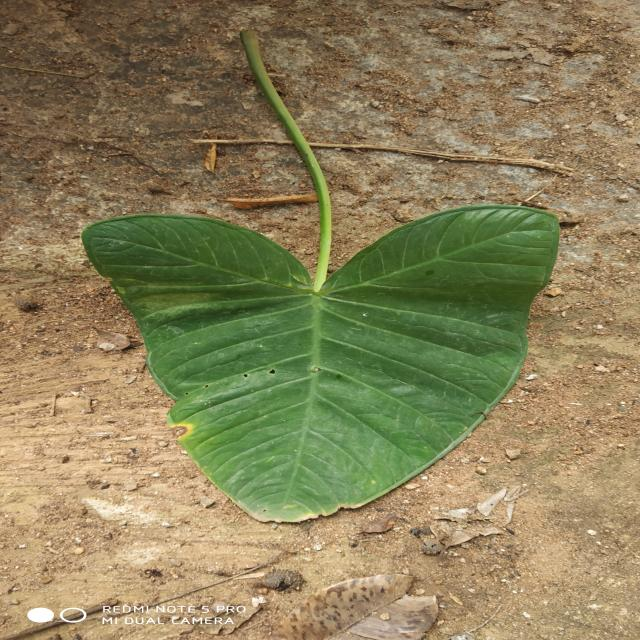taro: (82, 205, 558, 521)
